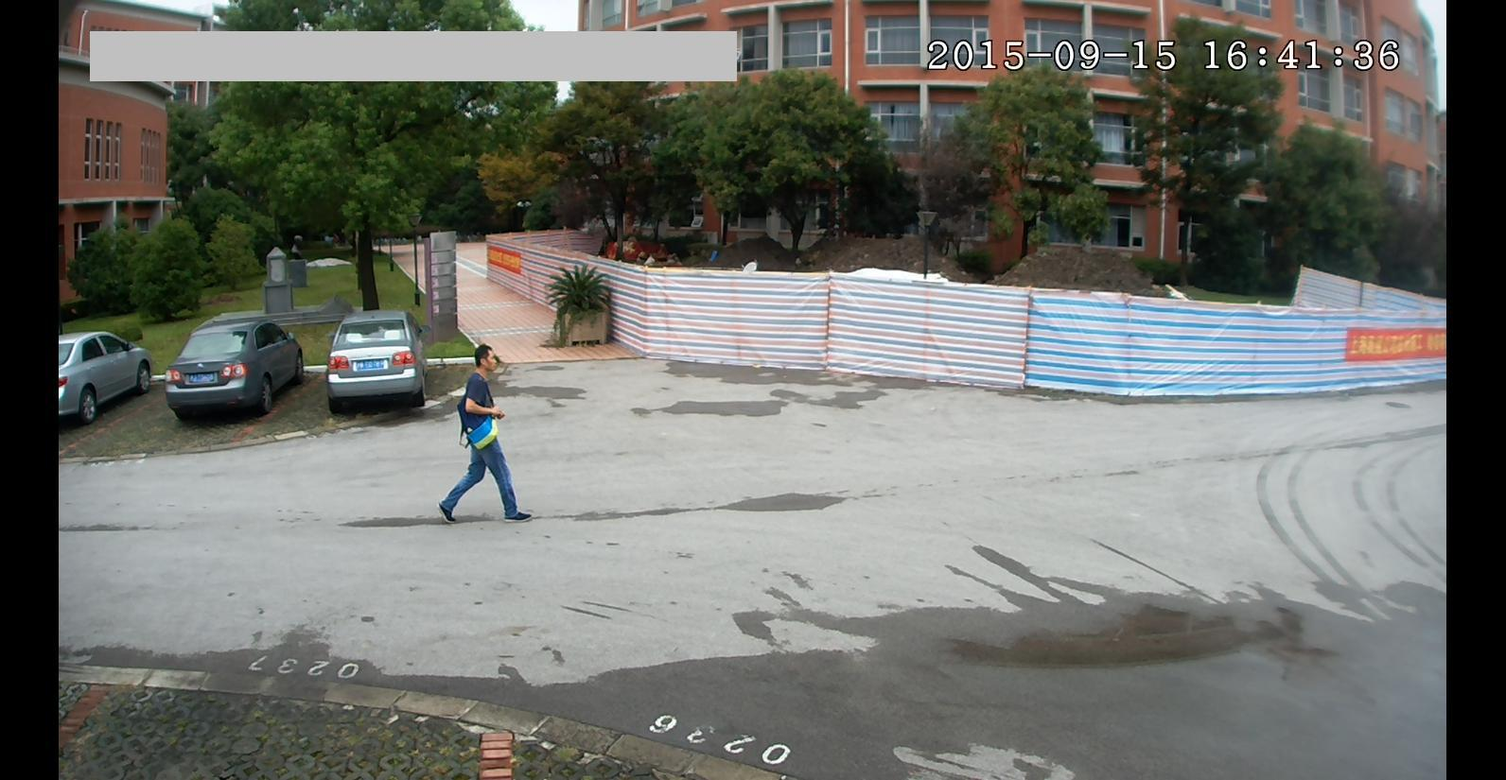person: (436, 340, 533, 535)
